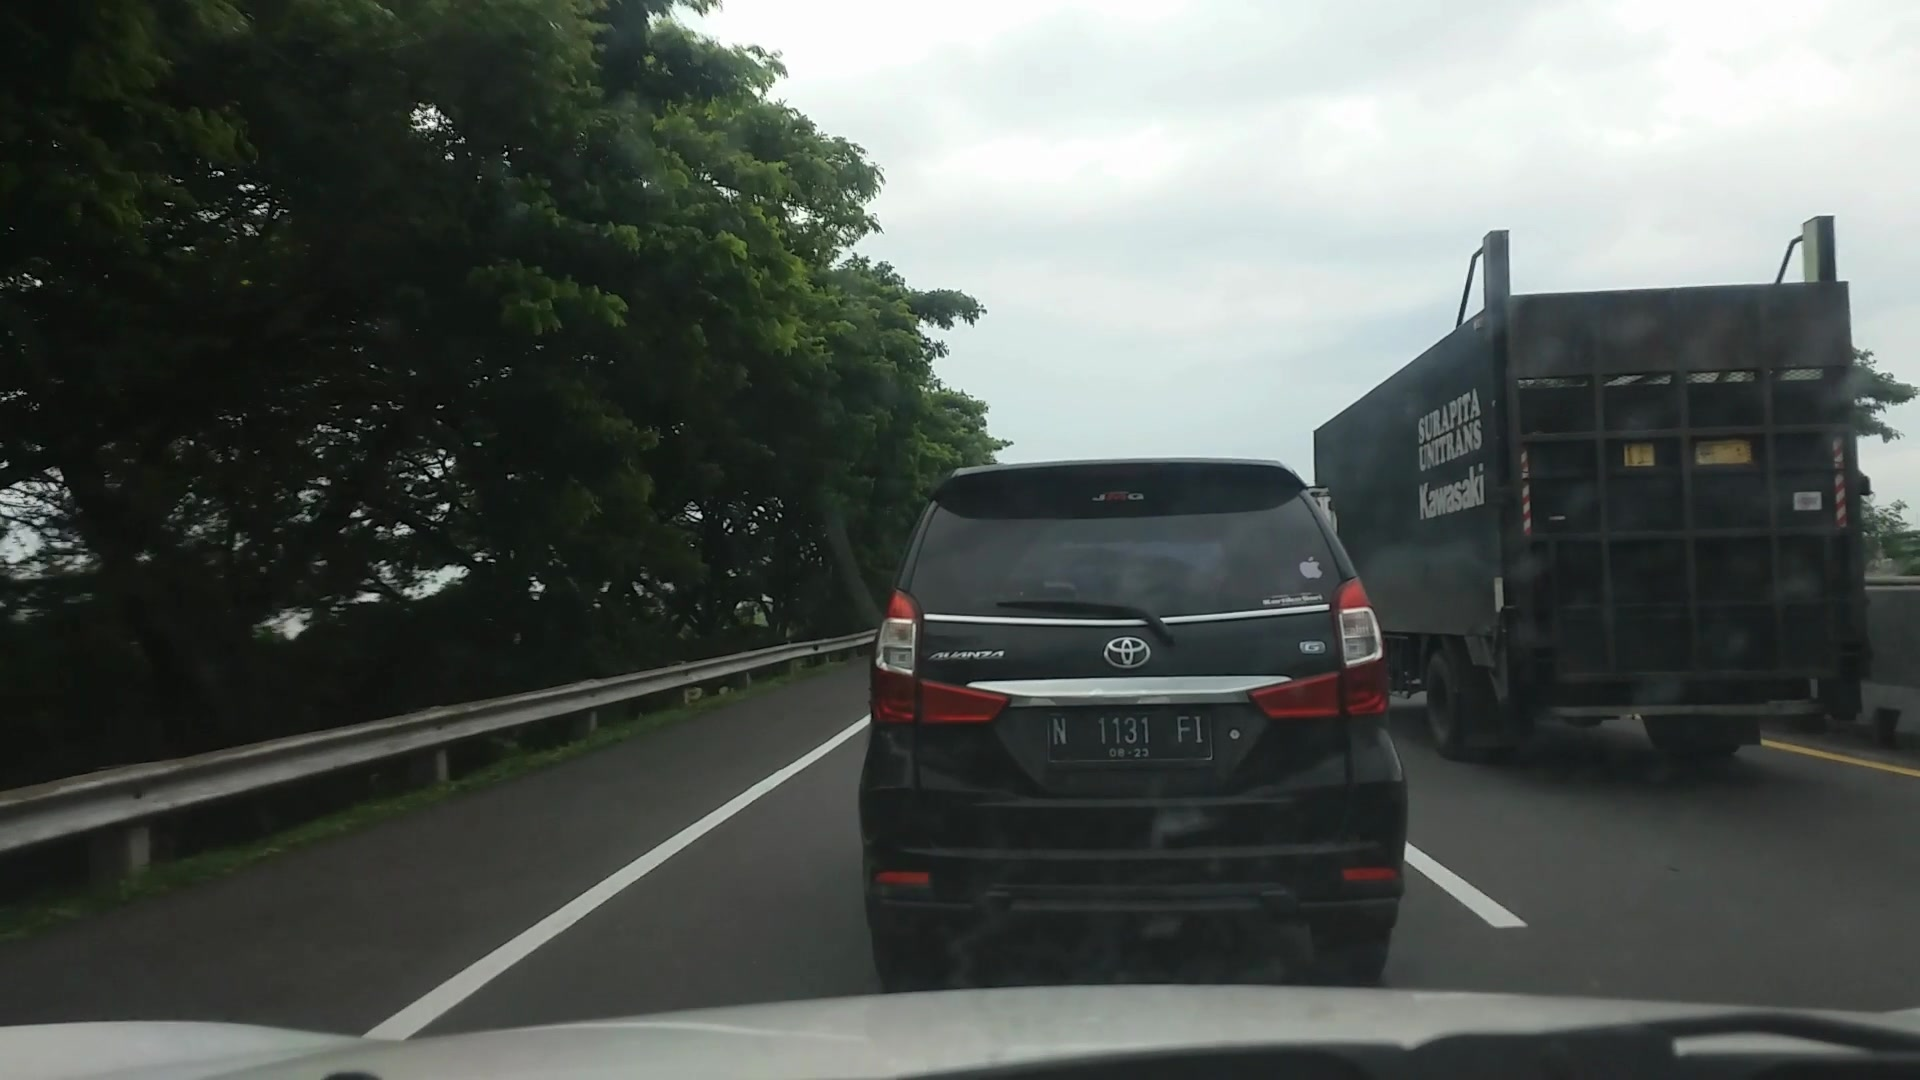plate_positive: (1046, 709, 1211, 760)
